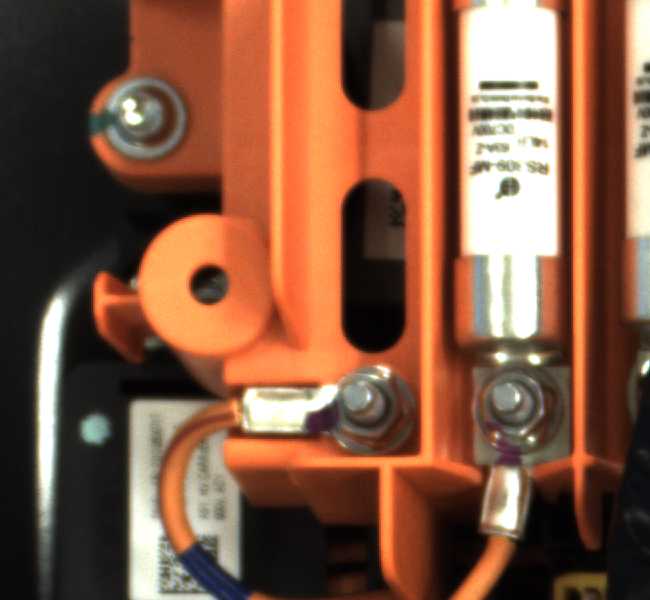screw_m: (99, 73, 206, 158)
screw_s: (309, 358, 421, 454), (468, 363, 568, 466)
